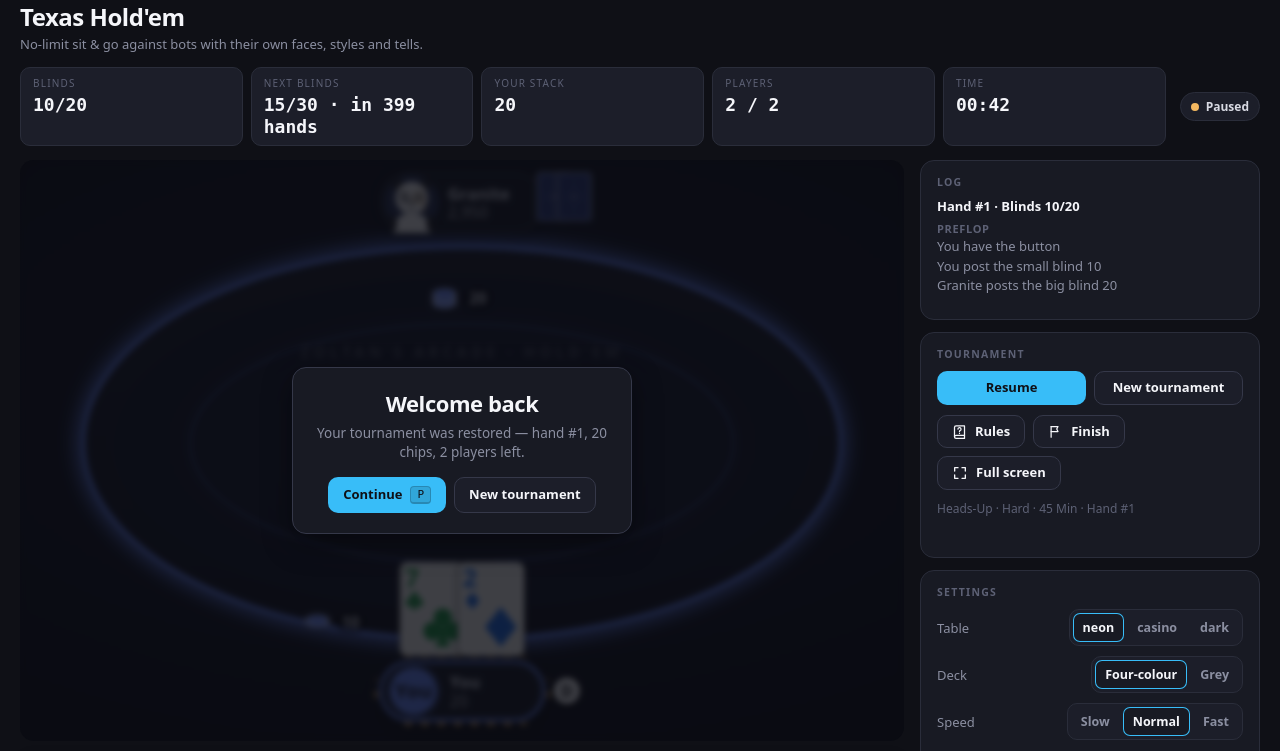
Test case: <HoldemGame /> › a busted player sees the place and scores nothing in a heads-up loss
The image size is (1280, 751).
Click the button "Continue P" at (387, 495), box left=328, top=477, right=446, bottom=513
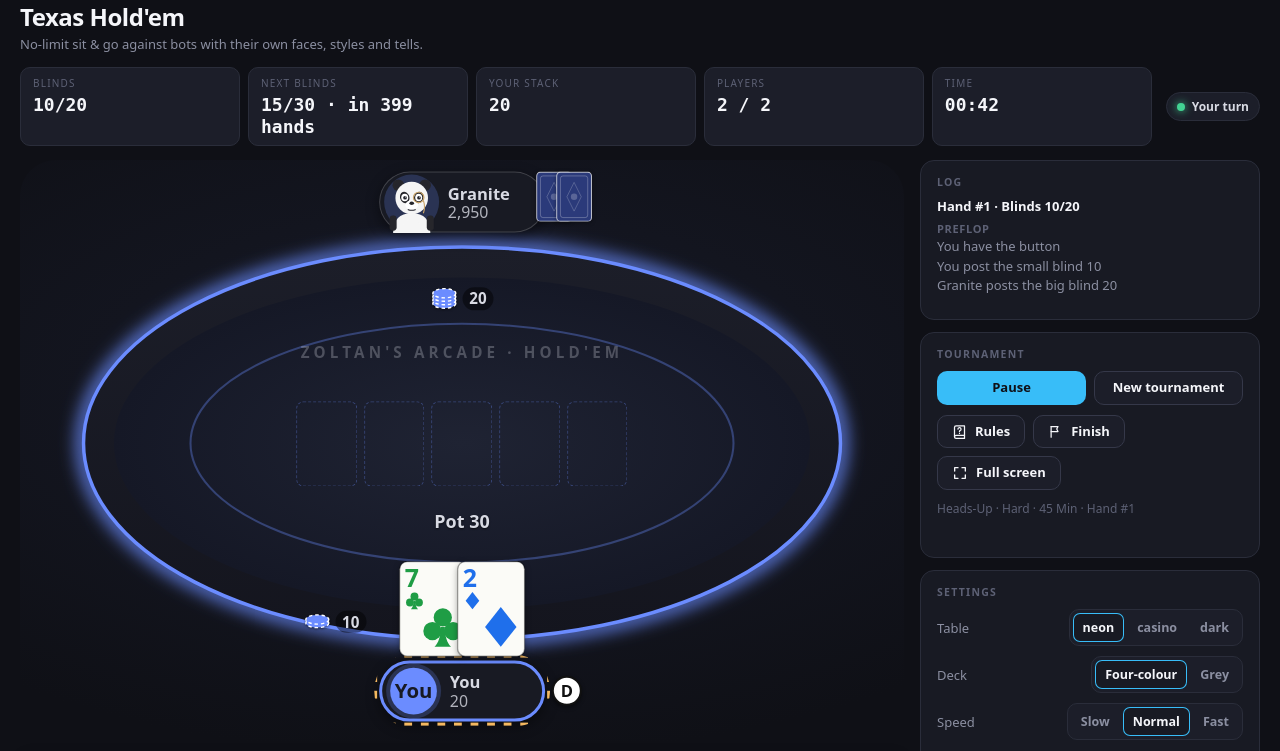
Press a
Press Enter
Wait 21000 ms
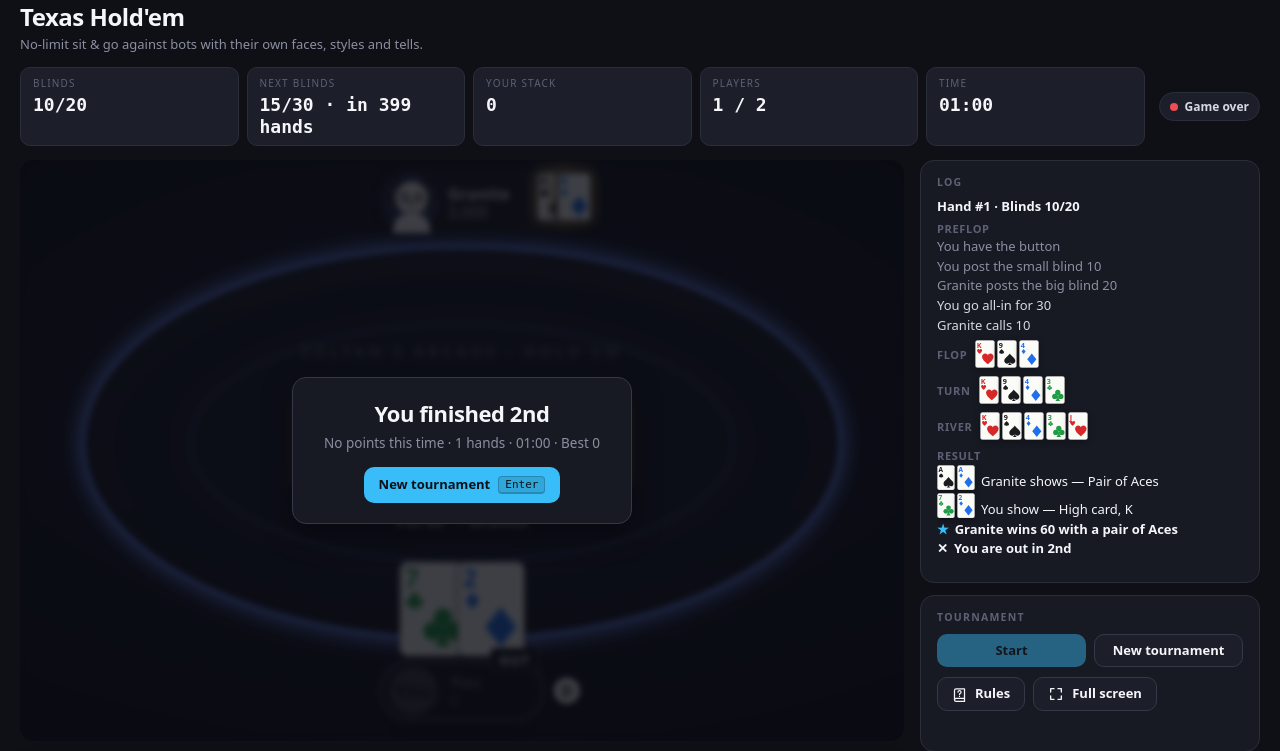
expect the dialog "You finished 2nd" is shown: met, box left=20, top=160, right=904, bottom=740
